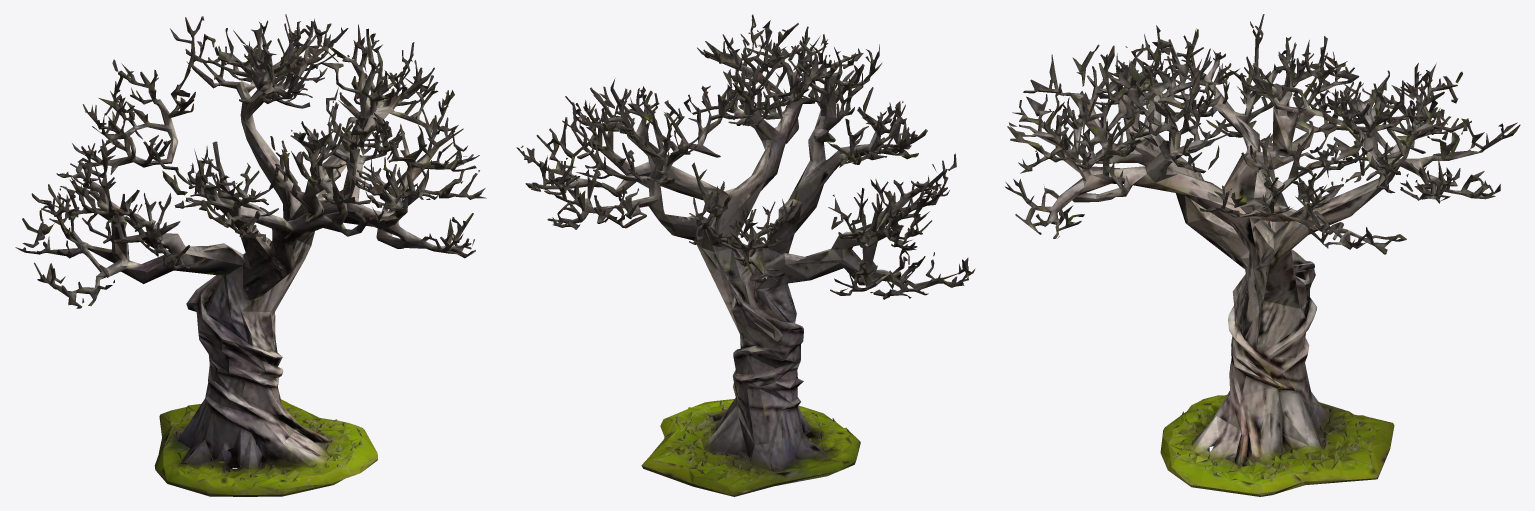
File: nature_dead_tree_03.glb
3 renders of one model, left to right at view 1: azimuth 30°, elevation 25°; view 2: azimuth 150°, elevation 25°; view 3: azimuth 270°, elevation 25°, orthographic. The views are drawn at different scales.
Visible parts, largest first — view 1: geometry_0; view 2: geometry_0; view 3: geometry_0.
Part boxes in pixels (left/top/right/bottom): geometry_0: left=15, top=14, right=486, bottom=496; geometry_0: left=516, top=14, right=975, bottom=496; geometry_0: left=1005, top=14, right=1520, bottom=496.
Size of the model in its own units: 0.9988 by 0.8546 by 0.9936.
1 material, 1 textured.
